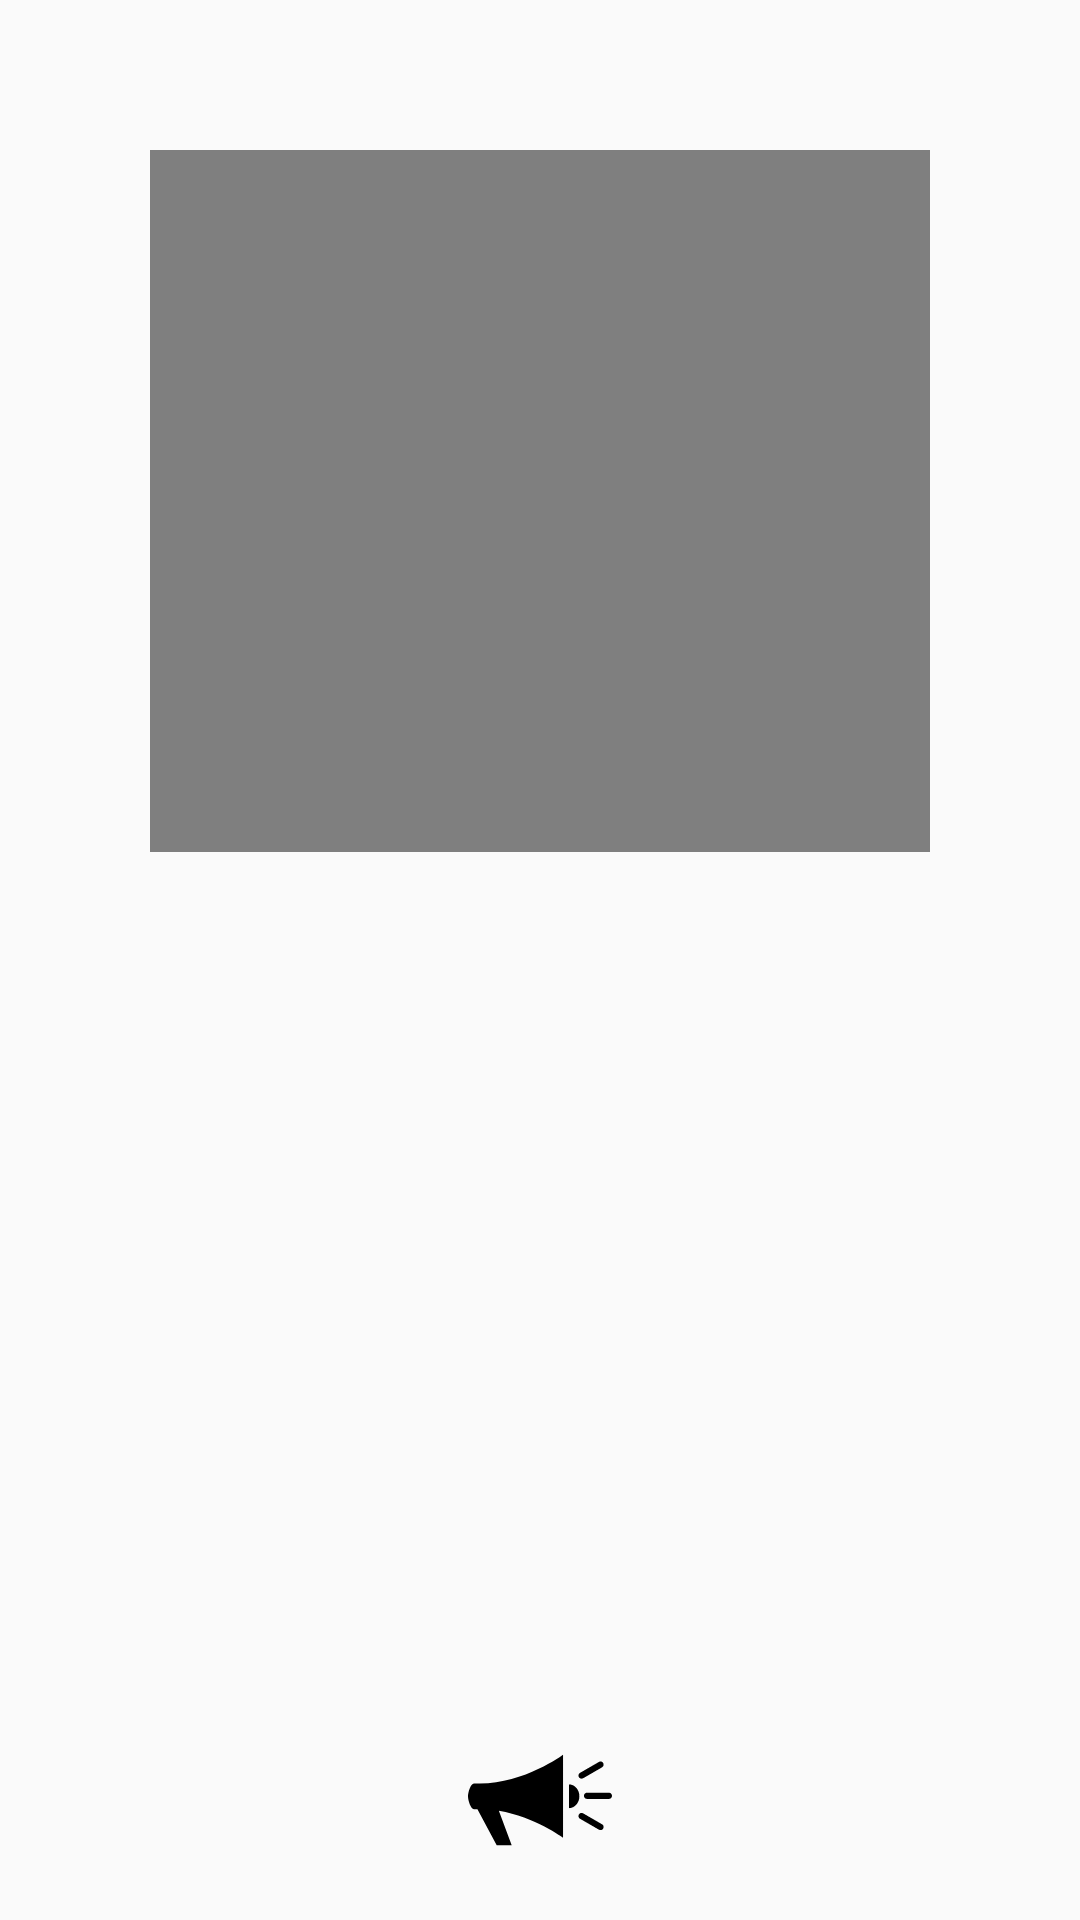

Icon bounding boxes for this 1080×1920 phone screenshot, format region(x1, y1, x2, y2):
megaphone: region(468, 1755, 612, 1846)
